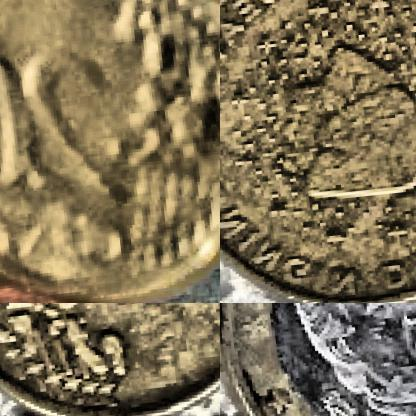coin: (0, 0, 219, 302), (220, 0, 415, 302), (0, 303, 219, 415), (220, 303, 415, 415)
